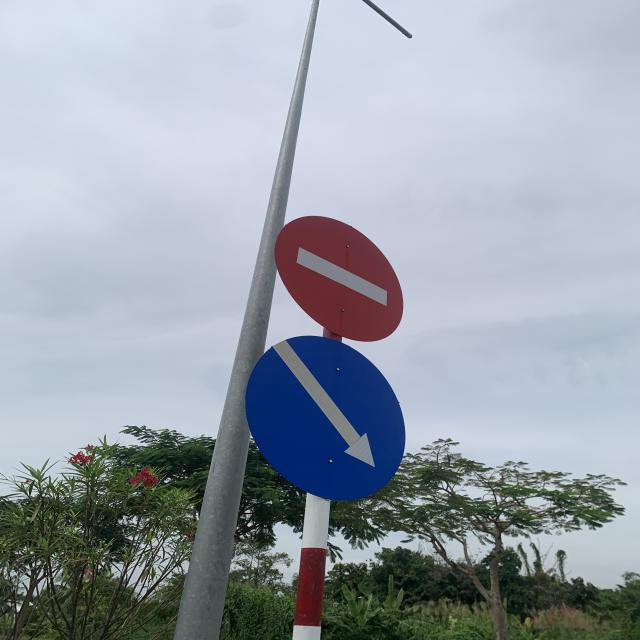Cam_Di_Nguoc_Chieu: (274, 215, 407, 342)
Chi_Huong_Di_Phai: (247, 335, 411, 505)
